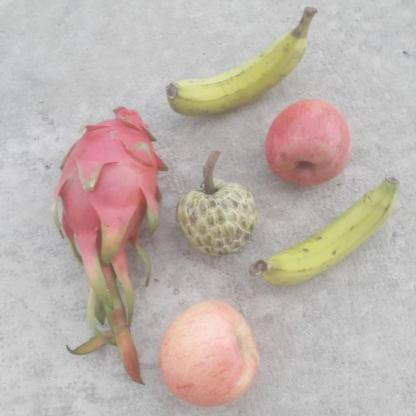annona: (174, 151, 258, 257)
apple: (160, 298, 262, 407), (264, 99, 354, 186)
banana: (165, 7, 319, 115), (257, 175, 401, 285)
pitaya: (51, 105, 169, 262)
